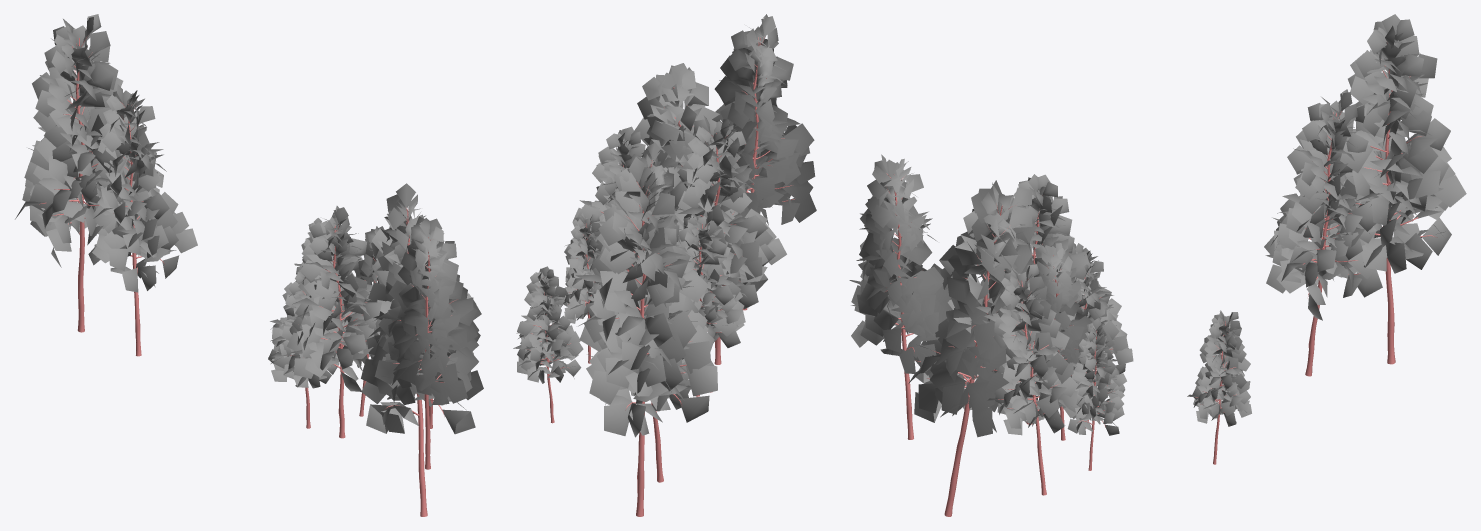
The model's file is Woods_Dawn_Trees_13.gltf.
3 renders of one model, left to right at view 1: azimuth 30°, elevation 25°; view 2: azimuth 150°, elevation 25°; view 3: azimuth 270°, elevation 25°, orthographic. The views are drawn at different scales.
Parts seen in each view (by area): view 1: Woods_Dawn_Trees_13; view 2: Woods_Dawn_Trees_13; view 3: Woods_Dawn_Trees_13.
Boxes of the visible parts, box(x1,y1,x2,y2) form: Woods_Dawn_Trees_13: box(15, 14, 483, 516); Woods_Dawn_Trees_13: box(513, 14, 816, 516); Woods_Dawn_Trees_13: box(849, 14, 1466, 516).
Size of the model in its own units: 98.2 by 123 by 164.
